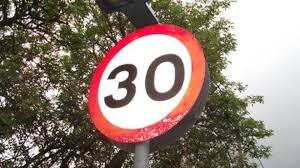Speed_limit_30km: (87, 25, 207, 143)
